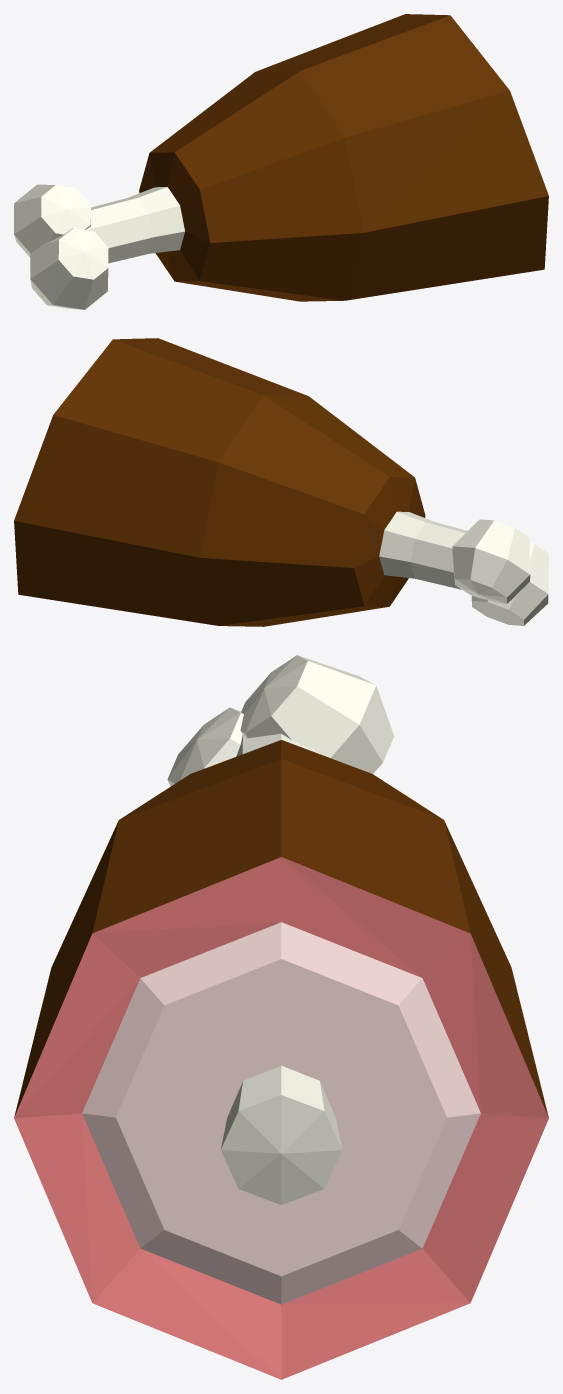
Rendered from Proto_Meat_Bone_01.fbx.
The picture shows the model from 3 angles, top to bottom: view 1: azimuth 30°, elevation 25°; view 2: azimuth 150°, elevation 25°; view 3: azimuth 270°, elevation 25°; orthographic projection. The views are drawn at different scales.
Visible parts, largest first — view 1: Proto_Meat_Bone_01; view 2: Proto_Meat_Bone_01; view 3: Proto_Meat_Bone_01.
Part boxes in pixels (box(x1,y1,x2,y2)): Proto_Meat_Bone_01: box(14, 14, 548, 309); Proto_Meat_Bone_01: box(14, 338, 548, 626); Proto_Meat_Bone_01: box(14, 655, 548, 1379).
Bounding box in the file's own units: 0.4253 × 0.2209 × 0.2233.
